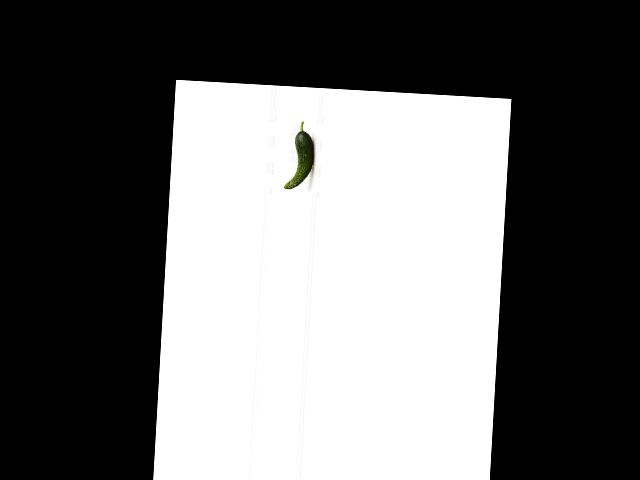cucumber: (284, 120, 315, 190)
